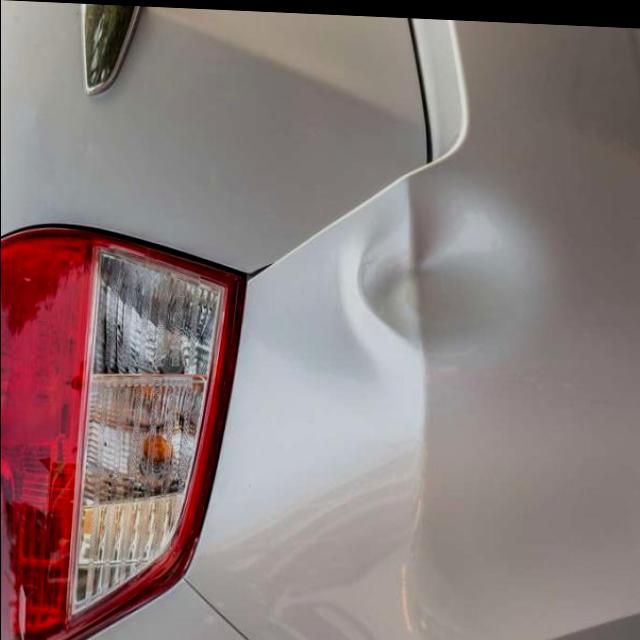Dent: (354, 180, 529, 356)
